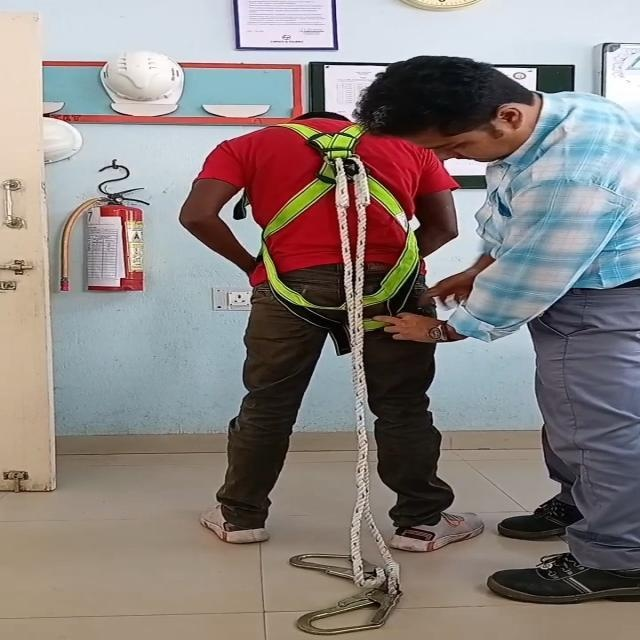Arnes_seguridad: (235, 114, 428, 350)
